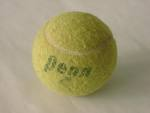tennis ball: (30, 9, 120, 98)
